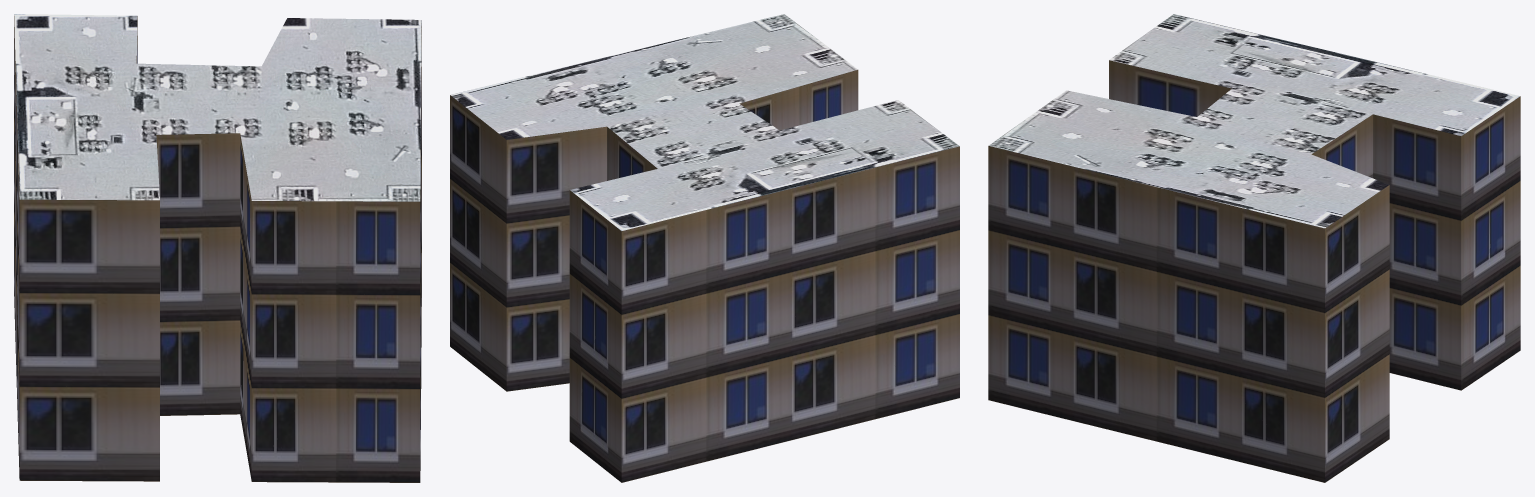
The model's file is ResTex__5011.fbx.
3 renders of one model, left to right at view 1: azimuth 30°, elevation 25°; view 2: azimuth 150°, elevation 25°; view 3: azimuth 270°, elevation 25°, orthographic. The views are drawn at different scales.
Parts seen in each view (by area): view 1: CityEngineMaterial_5_m, CityEngineMaterial_8_m; view 2: CityEngineMaterial_5_m, CityEngineMaterial_8_m; view 3: CityEngineMaterial_5_m, CityEngineMaterial_8_m.
Part boxes in pixels (bbox=[...]): CityEngineMaterial_5_m: bbox=[14, 16, 421, 482]; CityEngineMaterial_8_m: bbox=[14, 14, 421, 201]; CityEngineMaterial_5_m: bbox=[450, 70, 959, 482]; CityEngineMaterial_8_m: bbox=[450, 14, 959, 230]; CityEngineMaterial_5_m: bbox=[988, 60, 1520, 482]; CityEngineMaterial_8_m: bbox=[989, 14, 1519, 228].
Bounding box in the file's own units: 16.27 × 9 × 17.06.
2 materials, 2 textured.
